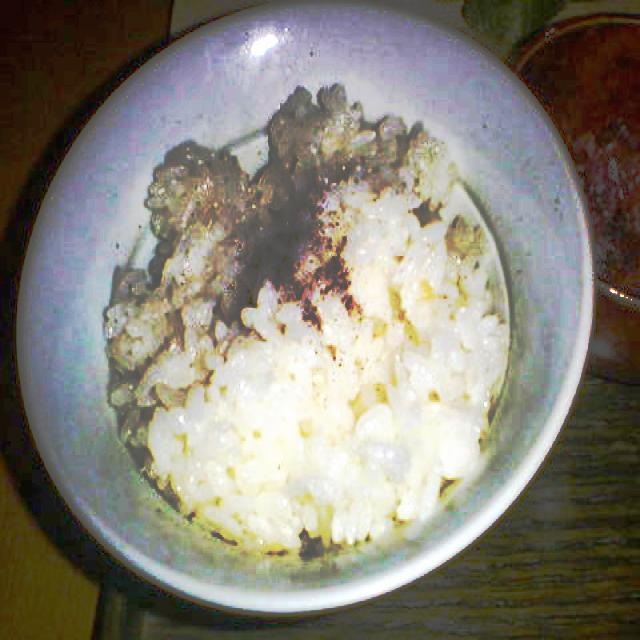rice: (106, 82, 502, 554)
